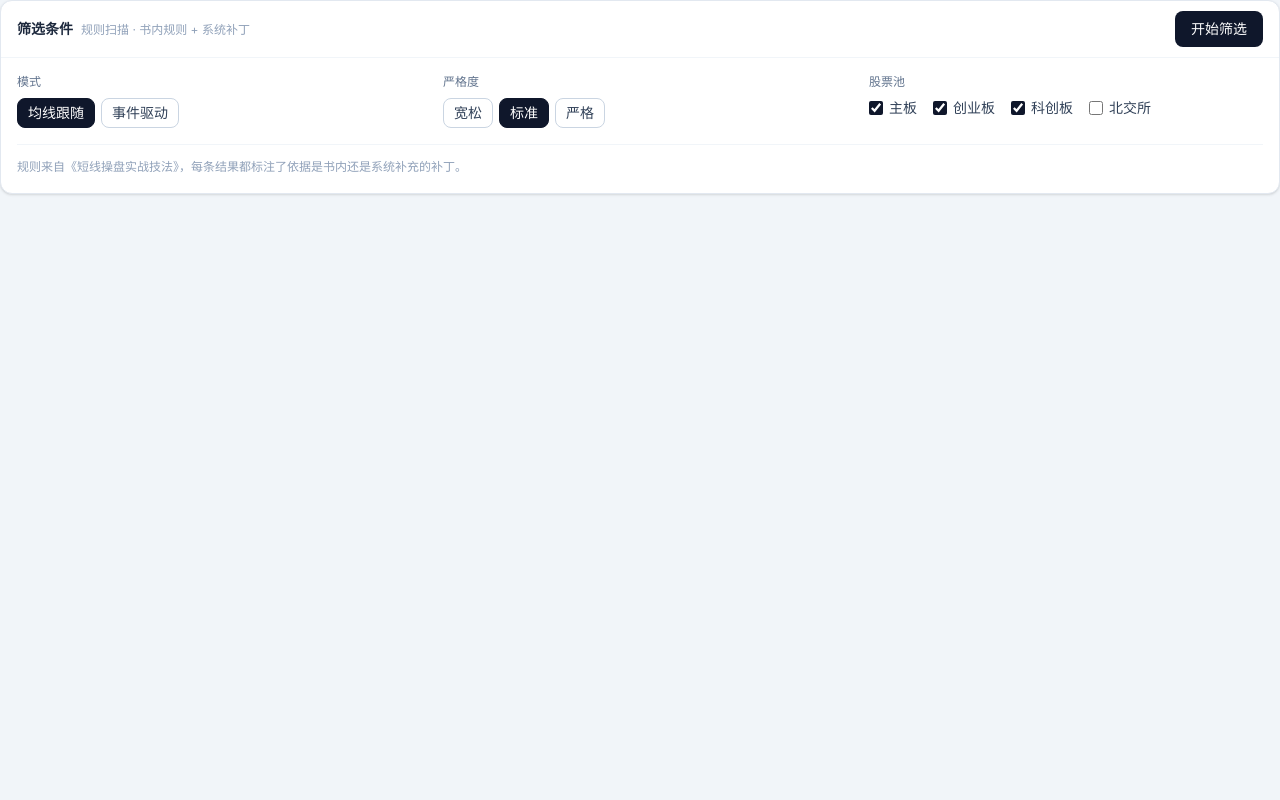
Test: 真实响应 · 趋势模式 › 渲染真实候选（含名称与代码），而不是空白或崩溃
The image size is (1280, 800).
Click the button "开始筛选" at (1219, 29), box x1=1175 y1=11 x2=1263 y2=47
(page scrolled)
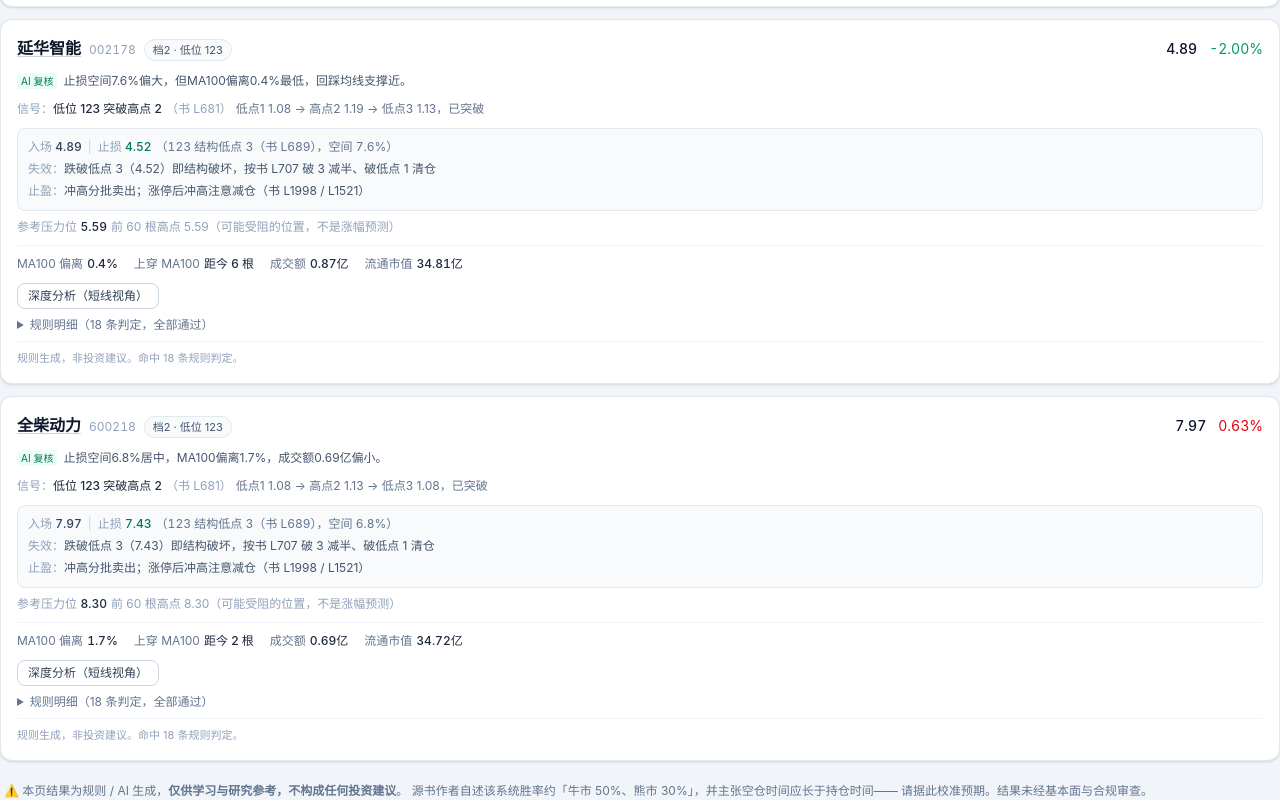
Result: the button "延华智能" is shown at x1=17 y1=36 x2=81 y2=60
Result: the button "全柴动力" is shown at x1=17 y1=412 x2=81 y2=436
